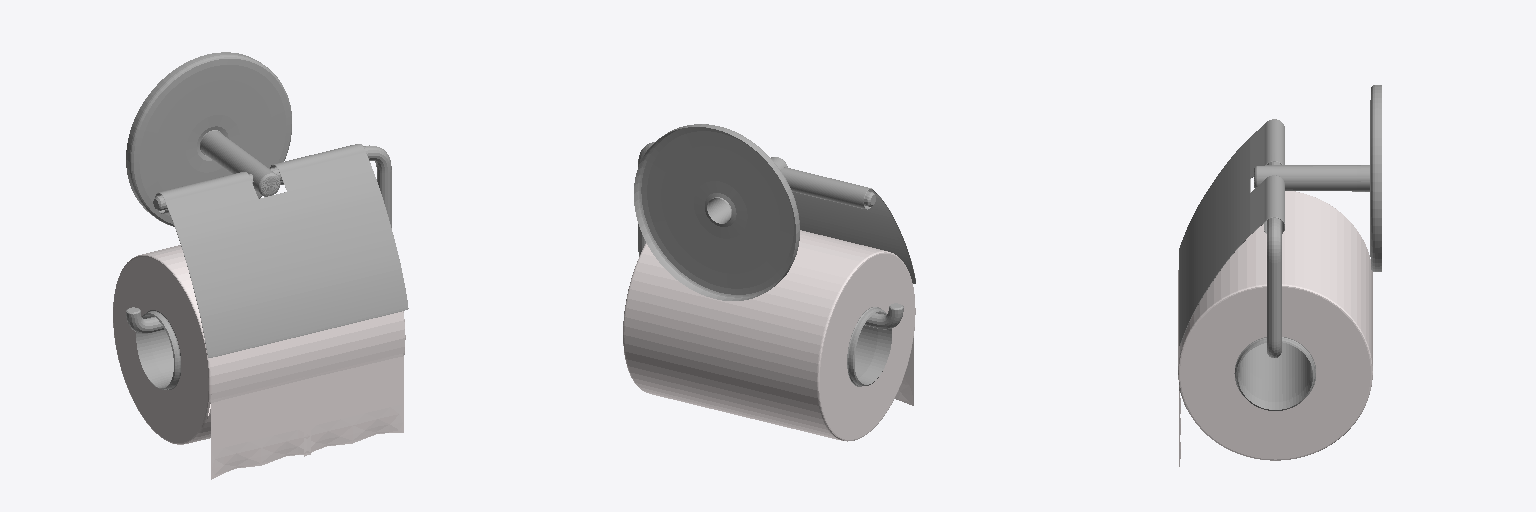
The model's file is toiletPaperDispenser.obj.
3 renders of one model, left to right at view 1: azimuth 30°, elevation 25°; view 2: azimuth 150°, elevation 25°; view 3: azimuth 270°, elevation 25°, orthographic.
Visible parts, largest first — view 1: cover_Circle.006, paper_Cylinder.003, bracket_base_Cylinder.002, spool_Cylinder.004, bracket_Mesh; view 2: paper_Cylinder.003, bracket_base_Cylinder.002, cover_Circle.006, spool_Cylinder.004, bracket_Mesh; view 3: paper_Cylinder.003, cover_Circle.006, bracket_base_Cylinder.002, spool_Cylinder.004, bracket_Mesh.
Boxes of the visible parts, <box> form: cover_Circle.006: <box>155,144,408,357</box>; paper_Cylinder.003: <box>113,245,405,479</box>; bracket_base_Cylinder.002: <box>126,52,291,226</box>; spool_Cylinder.004: <box>136,310,180,389</box>; bracket_Mesh: <box>126,145,391,333</box>; paper_Cylinder.003: <box>623,230,915,441</box>; bracket_base_Cylinder.002: <box>634,124,799,300</box>; cover_Circle.006: <box>781,167,915,283</box>; spool_Cylinder.004: <box>847,307,891,386</box>; bracket_Mesh: <box>638,142,903,329</box>; paper_Cylinder.003: <box>1178,191,1372,466</box>; cover_Circle.006: <box>1179,119,1284,345</box>; bracket_base_Cylinder.002: <box>1254,85,1381,271</box>; spool_Cylinder.004: <box>1234,337,1315,410</box>; bracket_Mesh: <box>1267,162,1281,357</box>.
Bounding box in the file's own units: 15.57 × 18.45 × 10.41.